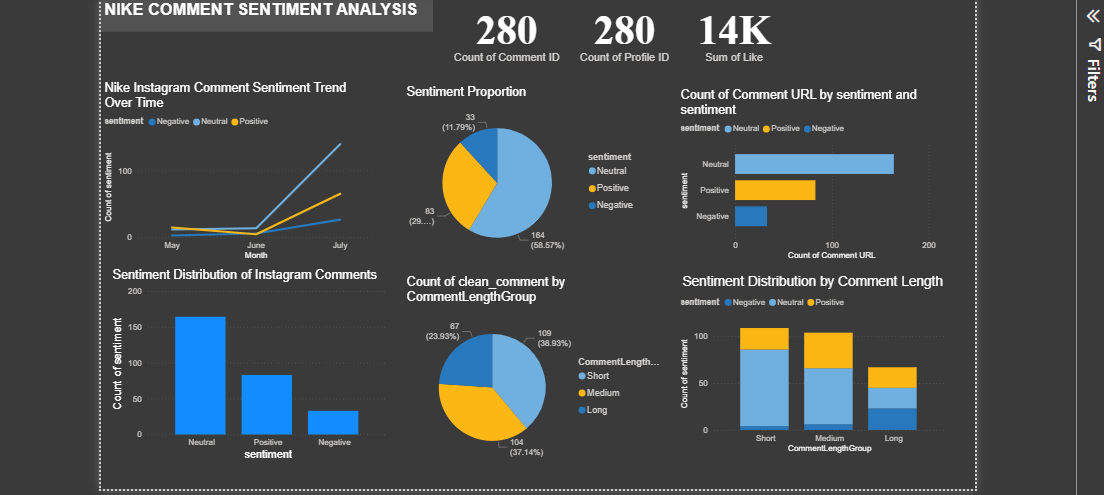

Layout of this report page (visuals, bound fields, positions):
{"tool":"powerbi","page":{"name":"Page 1","canvas":[1280,720],"ordinal":0},"visuals":[{"type":"clusteredColumnChart","title":"Sentiment Distribution of Instagram Comments","fields":{"Category":["nike_comments_with_sentiment.sentiment"],"Y":["CountNonNull(nike_comments_with_sentiment.sentiment)"]},"box":[11.4,395.7,412.9,287.1],"z":0},{"type":"pieChart","title":"Sentiment Proportion","fields":{"Category":["nike_comments_with_sentiment.sentiment"],"Y":["CountNonNull(nike_comments_with_sentiment.sentiment)"]},"box":[441.4,127.1,355.7,268.6],"z":1000},{"type":"columnChart","title":"Sentiment Distribution by Comment Length","fields":{"Category":["nike_comments_with_sentiment.CommentLengthGroup"],"Y":["CountNonNull(nike_comments_with_sentiment.sentiment)"],"Series":["nike_comments_with_sentiment.sentiment"]},"box":[842.9,405.7,397.1,267.1],"z":2000},{"type":"lineChart","title":"Nike Instagram Comment Sentiment Trend Over Time","fields":{"Category":["nike_comments_with_sentiment.Date.Variation.Date Hierarchy.Month"],"Y":["CountNonNull(nike_comments_with_sentiment.sentiment)"],"Series":["nike_comments_with_sentiment.sentiment"]},"box":[0,121.4,404.3,268.6],"z":3000},{"type":"barChart","fields":{"Category":["nike_comments_with_sentiment.sentiment"],"Y":["CountNonNull(nike_comments_with_sentiment.Comment URL)"],"Series":["nike_comments_with_sentiment.sentiment"]},"box":[842.9,131.4,384.3,258.6],"z":4000},{"type":"pieChart","fields":{"Category":["nike_comments_with_sentiment.CommentLengthGroup"],"Y":["CountNonNull(nike_comments_with_sentiment.clean_comment)"]},"box":[441.4,405.7,384.3,290],"z":5000},{"type":"textbox","box":[0,0,485.7,51.4],"z":6000},{"type":"card","fields":{"Values":["CountNonNull(nike_comments_with_sentiment.Comment ID)"]},"box":[485.7,0,215.7,101.4],"z":7000},{"type":"card","fields":{"Values":["CountNonNull(nike_comments_with_sentiment.Profile ID)"]},"box":[674.3,0,182.9,101.4],"z":8000},{"type":"card","fields":{"Values":["Sum(nike_comments_with_sentiment.Unnamed: 0)"]},"box":[842.9,0,167.1,101.4],"z":9000}]}

Visuals, with their boxes on the page's 1280x720 design canvas (x1, y1, x2, y2). These are canvas units, not pixel positions in the 1104x495 screenshot, which may show the page scaled, cropped or inside an application window:
"Sentiment Distribution of Instagram Comments" clusteredColumnChart: locate(11, 396, 424, 683)
"Sentiment Proportion" pieChart: locate(441, 127, 797, 396)
"Sentiment Distribution by Comment Length" columnChart: locate(843, 406, 1240, 673)
"Nike Instagram Comment Sentiment Trend Over Time" lineChart: locate(0, 121, 404, 390)
barChart - nike_comments_with_sentiment.sentiment x CountNonNull(nike_comments_with_sentiment.Comment URL): locate(843, 131, 1227, 390)
pieChart - nike_comments_with_sentiment.CommentLengthGroup x CountNonNull(nike_comments_with_sentiment.clean_comment): locate(441, 406, 826, 696)
textbox: locate(0, 0, 486, 51)
card - CountNonNull(nike_comments_with_sentiment.Comment ID): locate(486, 0, 701, 101)
card - CountNonNull(nike_comments_with_sentiment.Profile ID): locate(674, 0, 857, 101)
card - Sum(nike_comments_with_sentiment.Unnamed: 0): locate(843, 0, 1010, 101)
